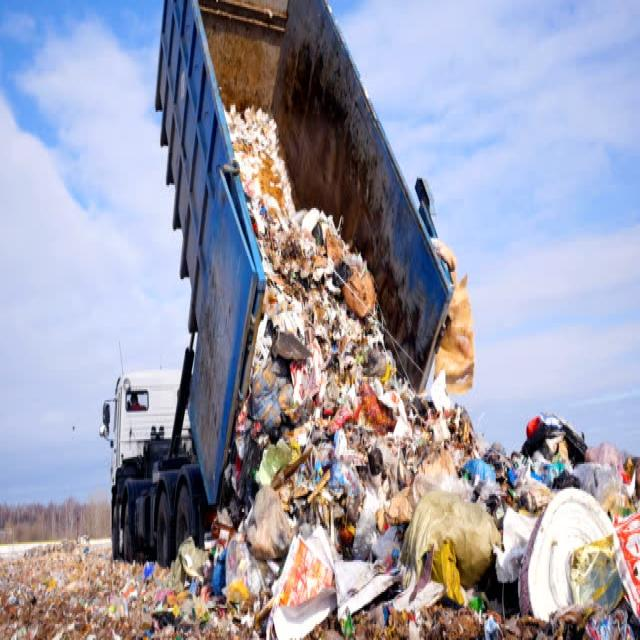plastic: (297, 348, 615, 612)
